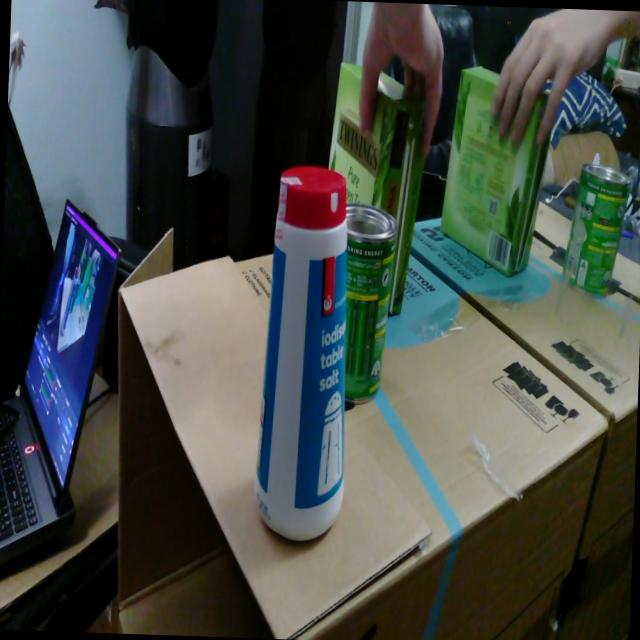nestle_milo_tin: (345, 203, 397, 403)
twinings_greentea_box: (328, 62, 427, 313)
woolworths_salt_bottle: (255, 166, 346, 539)
